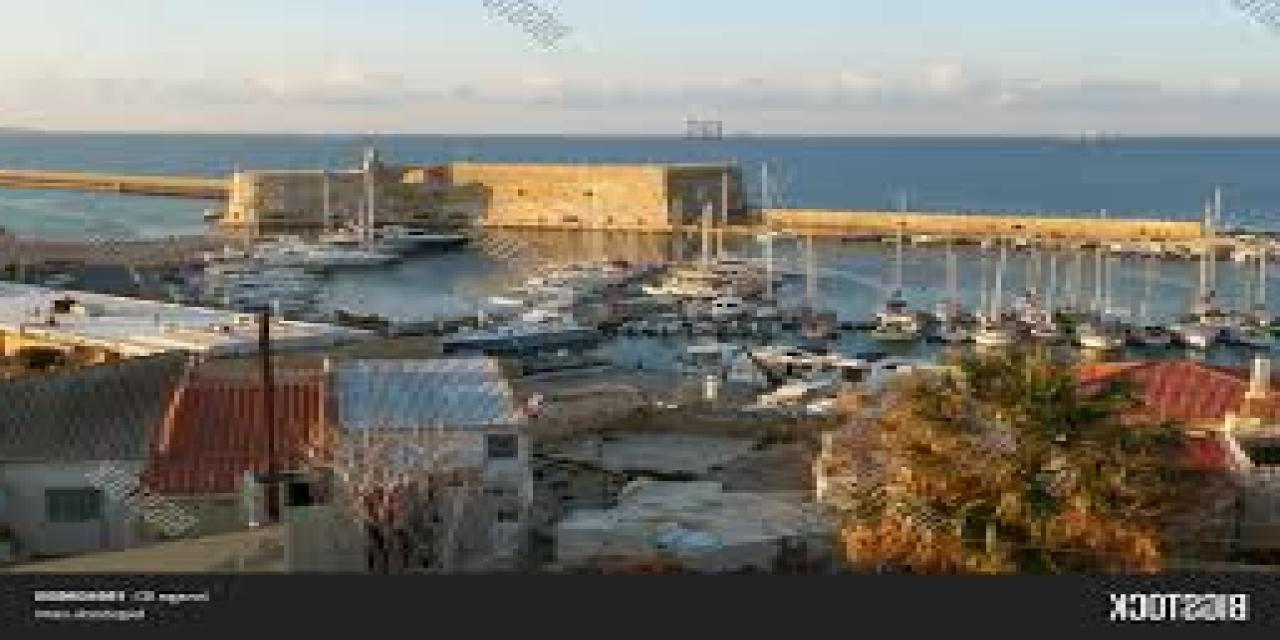Kules: (201, 154, 747, 228)
